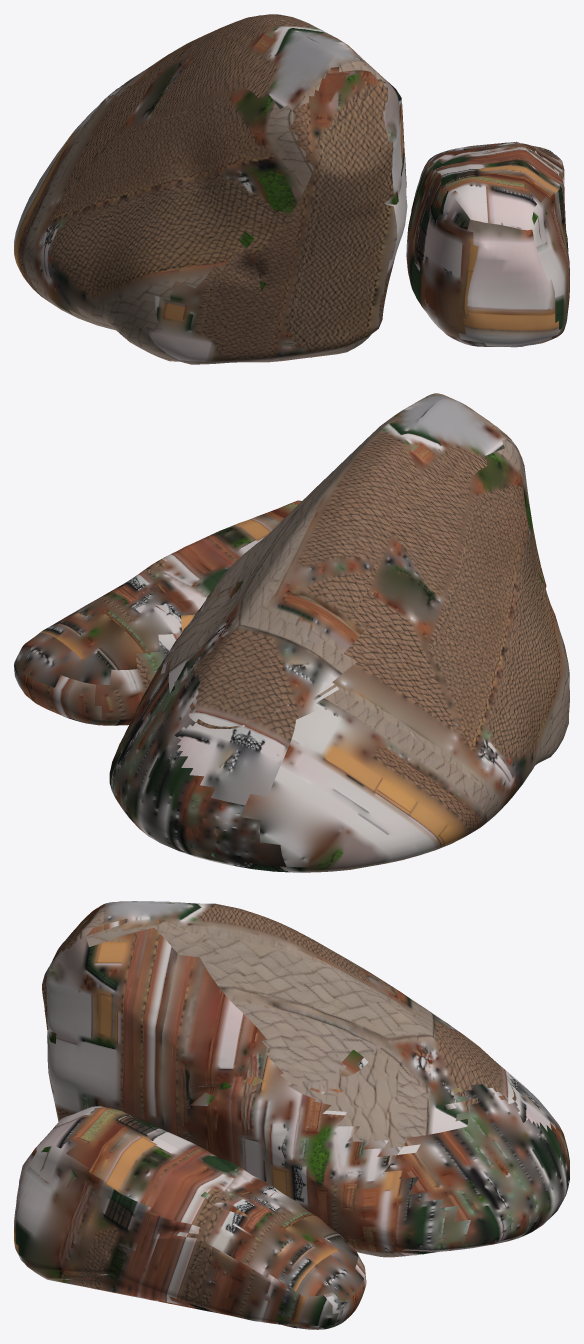
The model's file is roca.fbx.
3 views of the same model, one above another, from view 1: azimuth 30°, elevation 25°; view 2: azimuth 150°, elevation 25°; view 3: azimuth 270°, elevation 25° (orthographic). The views are drawn at different scales.
Visible parts, largest first — view 1: mesh_rep_0_ori_repair_quad; view 2: mesh_rep_0_ori_repair_quad; view 3: mesh_rep_0_ori_repair_quad.
Part boxes in pixels (x1,y1,x2,y2): mesh_rep_0_ori_repair_quad: (14, 14, 569, 364); mesh_rep_0_ori_repair_quad: (14, 393, 569, 872); mesh_rep_0_ori_repair_quad: (14, 901, 569, 1329).
Size of the model in its own units: 319 by 185 by 319.
